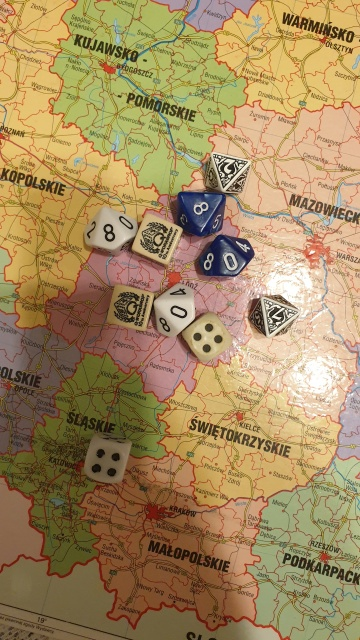d10-10: (191, 233, 267, 284), (148, 277, 198, 340)
d10-8: (80, 205, 138, 259), (170, 183, 222, 231)
d6-4: (76, 432, 134, 488), (184, 313, 234, 370)
d6p-6: (129, 207, 184, 270), (105, 280, 155, 335)
d8p-2: (198, 149, 254, 200)
d8p-7: (248, 289, 302, 344)
